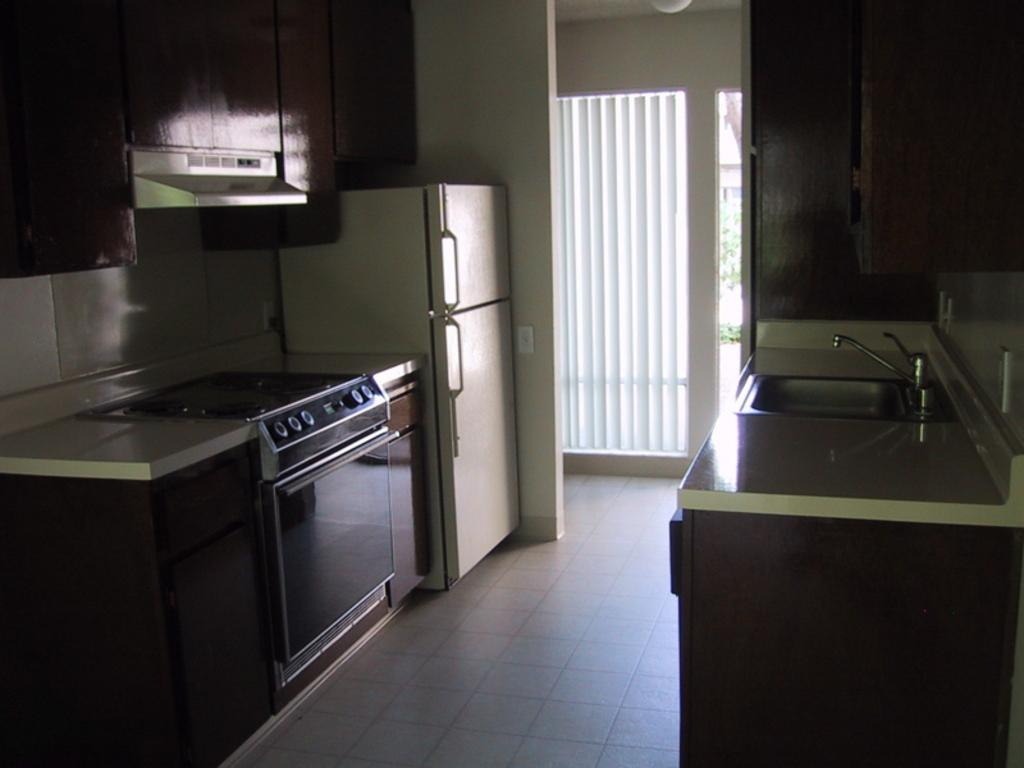cabinet_door: (169, 536, 260, 742), (395, 430, 436, 591), (152, 475, 254, 528), (382, 392, 426, 434)
handle: (434, 231, 464, 314), (438, 314, 464, 396)
